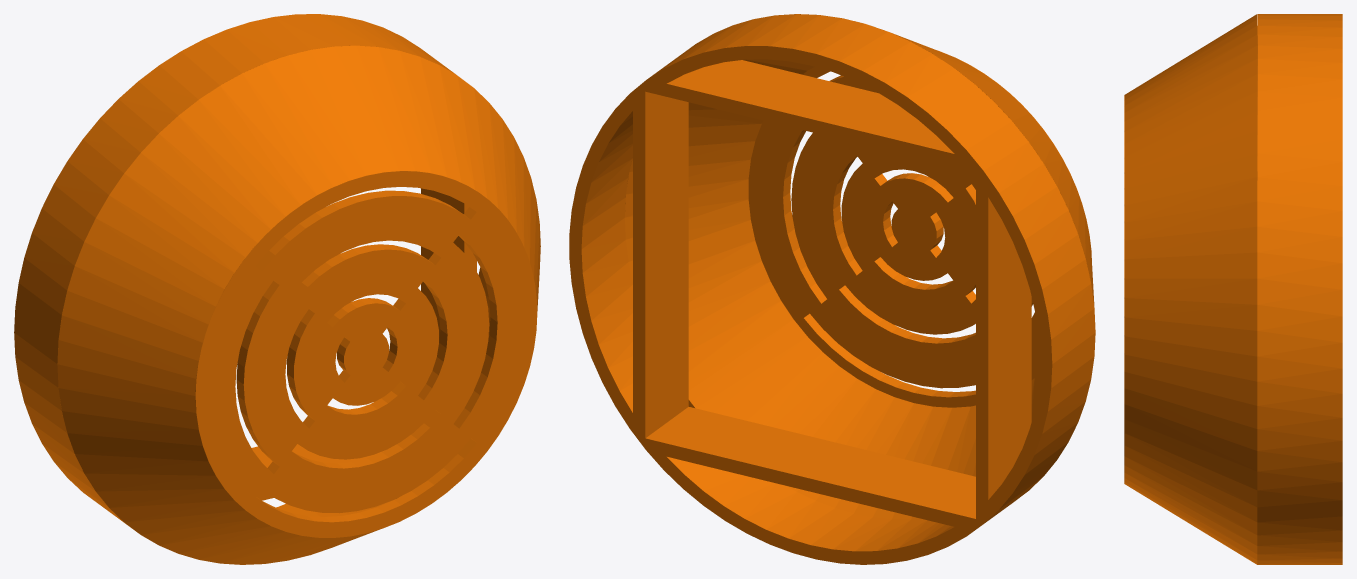
Rendered from doorbell.glb.
3 views of the same model, side by side, from view 1: azimuth 30°, elevation 25°; view 2: azimuth 150°, elevation 25°; view 3: azimuth 270°, elevation 25° (orthographic).
Parts seen in each view (by area): view 1: doorbell; view 2: doorbell; view 3: doorbell.
Boxes of the visible parts, x1=… form: doorbell: x1=14, y1=14, x2=540, y2=564; doorbell: x1=569, y1=14, x2=1095, y2=564; doorbell: x1=1124, y1=14, x2=1342, y2=564.
Bounding box in the file's own units: 116 × 116 × 46.
